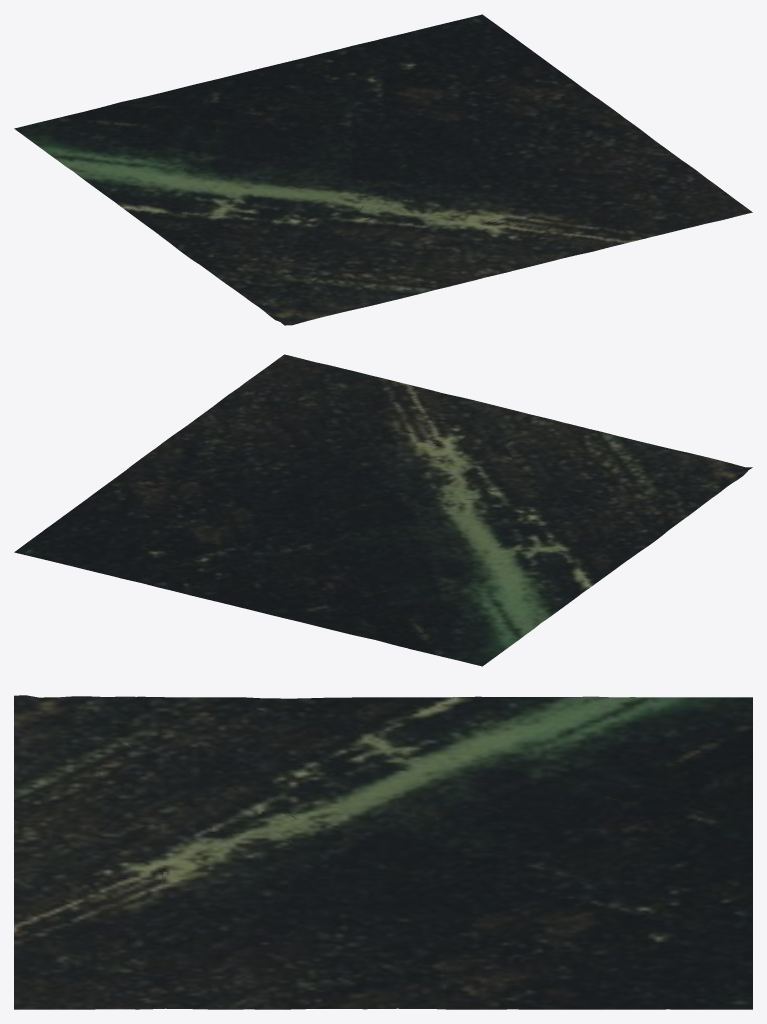
The picture shows the model from 3 angles, top to bottom: view 1: azimuth 30°, elevation 25°; view 2: azimuth 150°, elevation 25°; view 3: azimuth 270°, elevation 25°; orthographic projection. The views are drawn at different scales.
Bounding box in the file's own units: 104 × 0.5541 × 104.
Materials: 3 (3 with a texture image).
